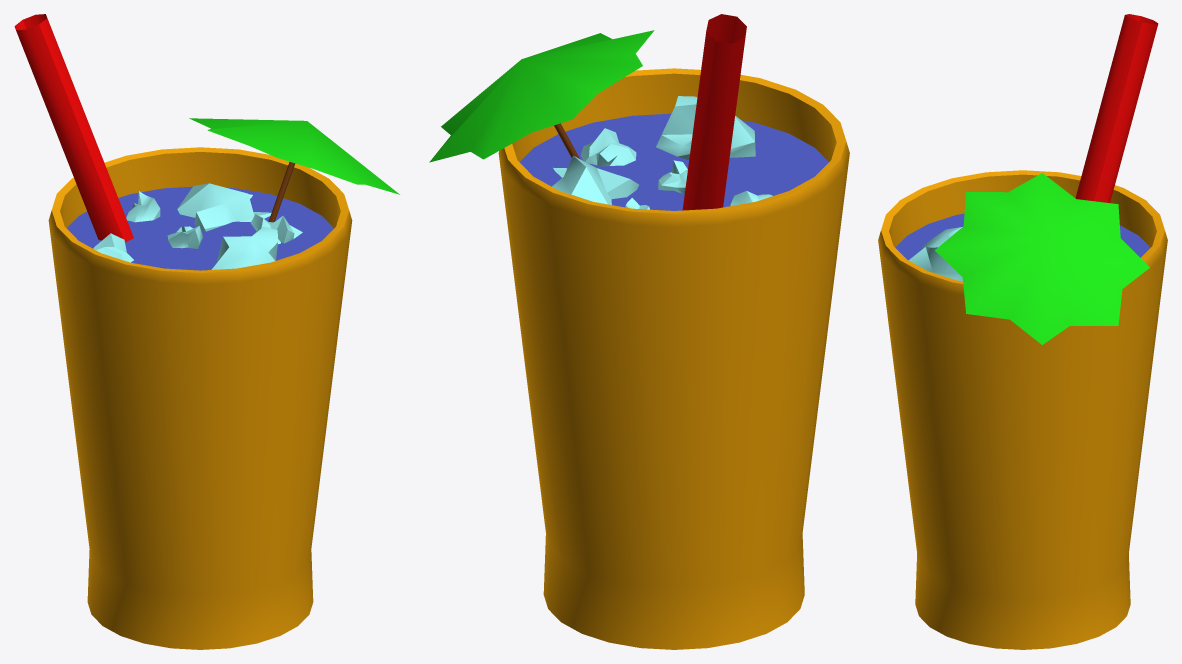
The picture shows the model from 3 angles, left to right: view 1: azimuth 30°, elevation 25°; view 2: azimuth 150°, elevation 25°; view 3: azimuth 270°, elevation 25°; orthographic projection. The views are drawn at different scales.
Parts seen in each view (by area): view 1: glass, liquid, straw, 02_2_umbrella #2_0, 02_ice_0, 01_ice_0, 03_ice_0, 04_ice_0, 05_ice_0, 06_ice_0; view 2: glass, 02_2_umbrella #2_0, liquid, straw, 01_ice_0, 02_ice_0, 04_ice_0, 05_ice_0; view 3: glass, 02_2_umbrella #2_0, straw, liquid, 01_ice_0.
Boxes of the visible parts, box(x1,y1,x2,y2) form: glass: box(48, 147, 352, 649); liquid: box(67, 186, 333, 270); straw: box(14, 14, 133, 242); 02_2_umbrella #2_0: box(189, 118, 399, 194); 02_ice_0: box(177, 183, 271, 231); 01_ice_0: box(211, 227, 277, 269); 03_ice_0: box(126, 191, 160, 222); 04_ice_0: box(250, 214, 302, 244); 05_ice_0: box(167, 225, 203, 248); 06_ice_0: box(93, 233, 133, 262); glass: box(498, 68, 849, 649); 02_2_umbrella #2_0: box(429, 30, 654, 162); liquid: box(519, 113, 828, 210); straw: box(682, 14, 746, 210); 01_ice_0: box(656, 96, 755, 159); 02_ice_0: box(552, 155, 638, 204); 04_ice_0: box(580, 128, 636, 166); 05_ice_0: box(658, 160, 687, 193); glass: box(878, 170, 1167, 649); 02_2_umbrella #2_0: box(935, 173, 1149, 344); straw: box(1075, 14, 1158, 202); liquid: box(895, 213, 1150, 260); 01_ice_0: box(908, 227, 962, 281).
Size of the model in its own units: 246 by 412 by 200.
